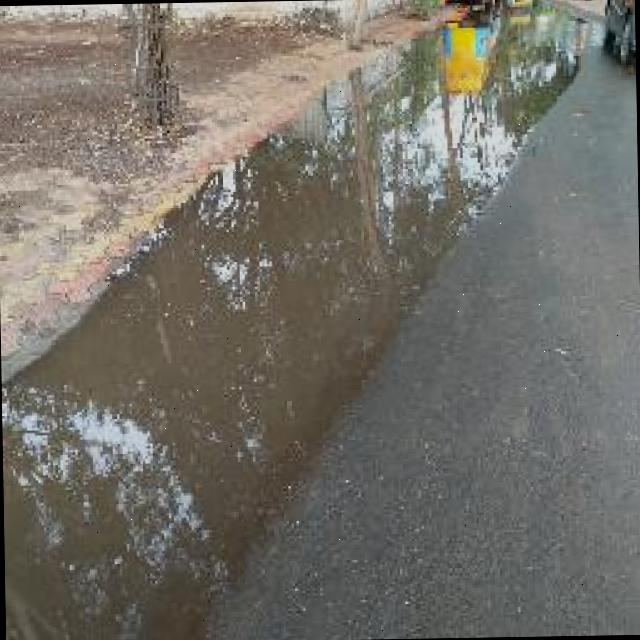stagnation: (6, 43, 568, 640)
